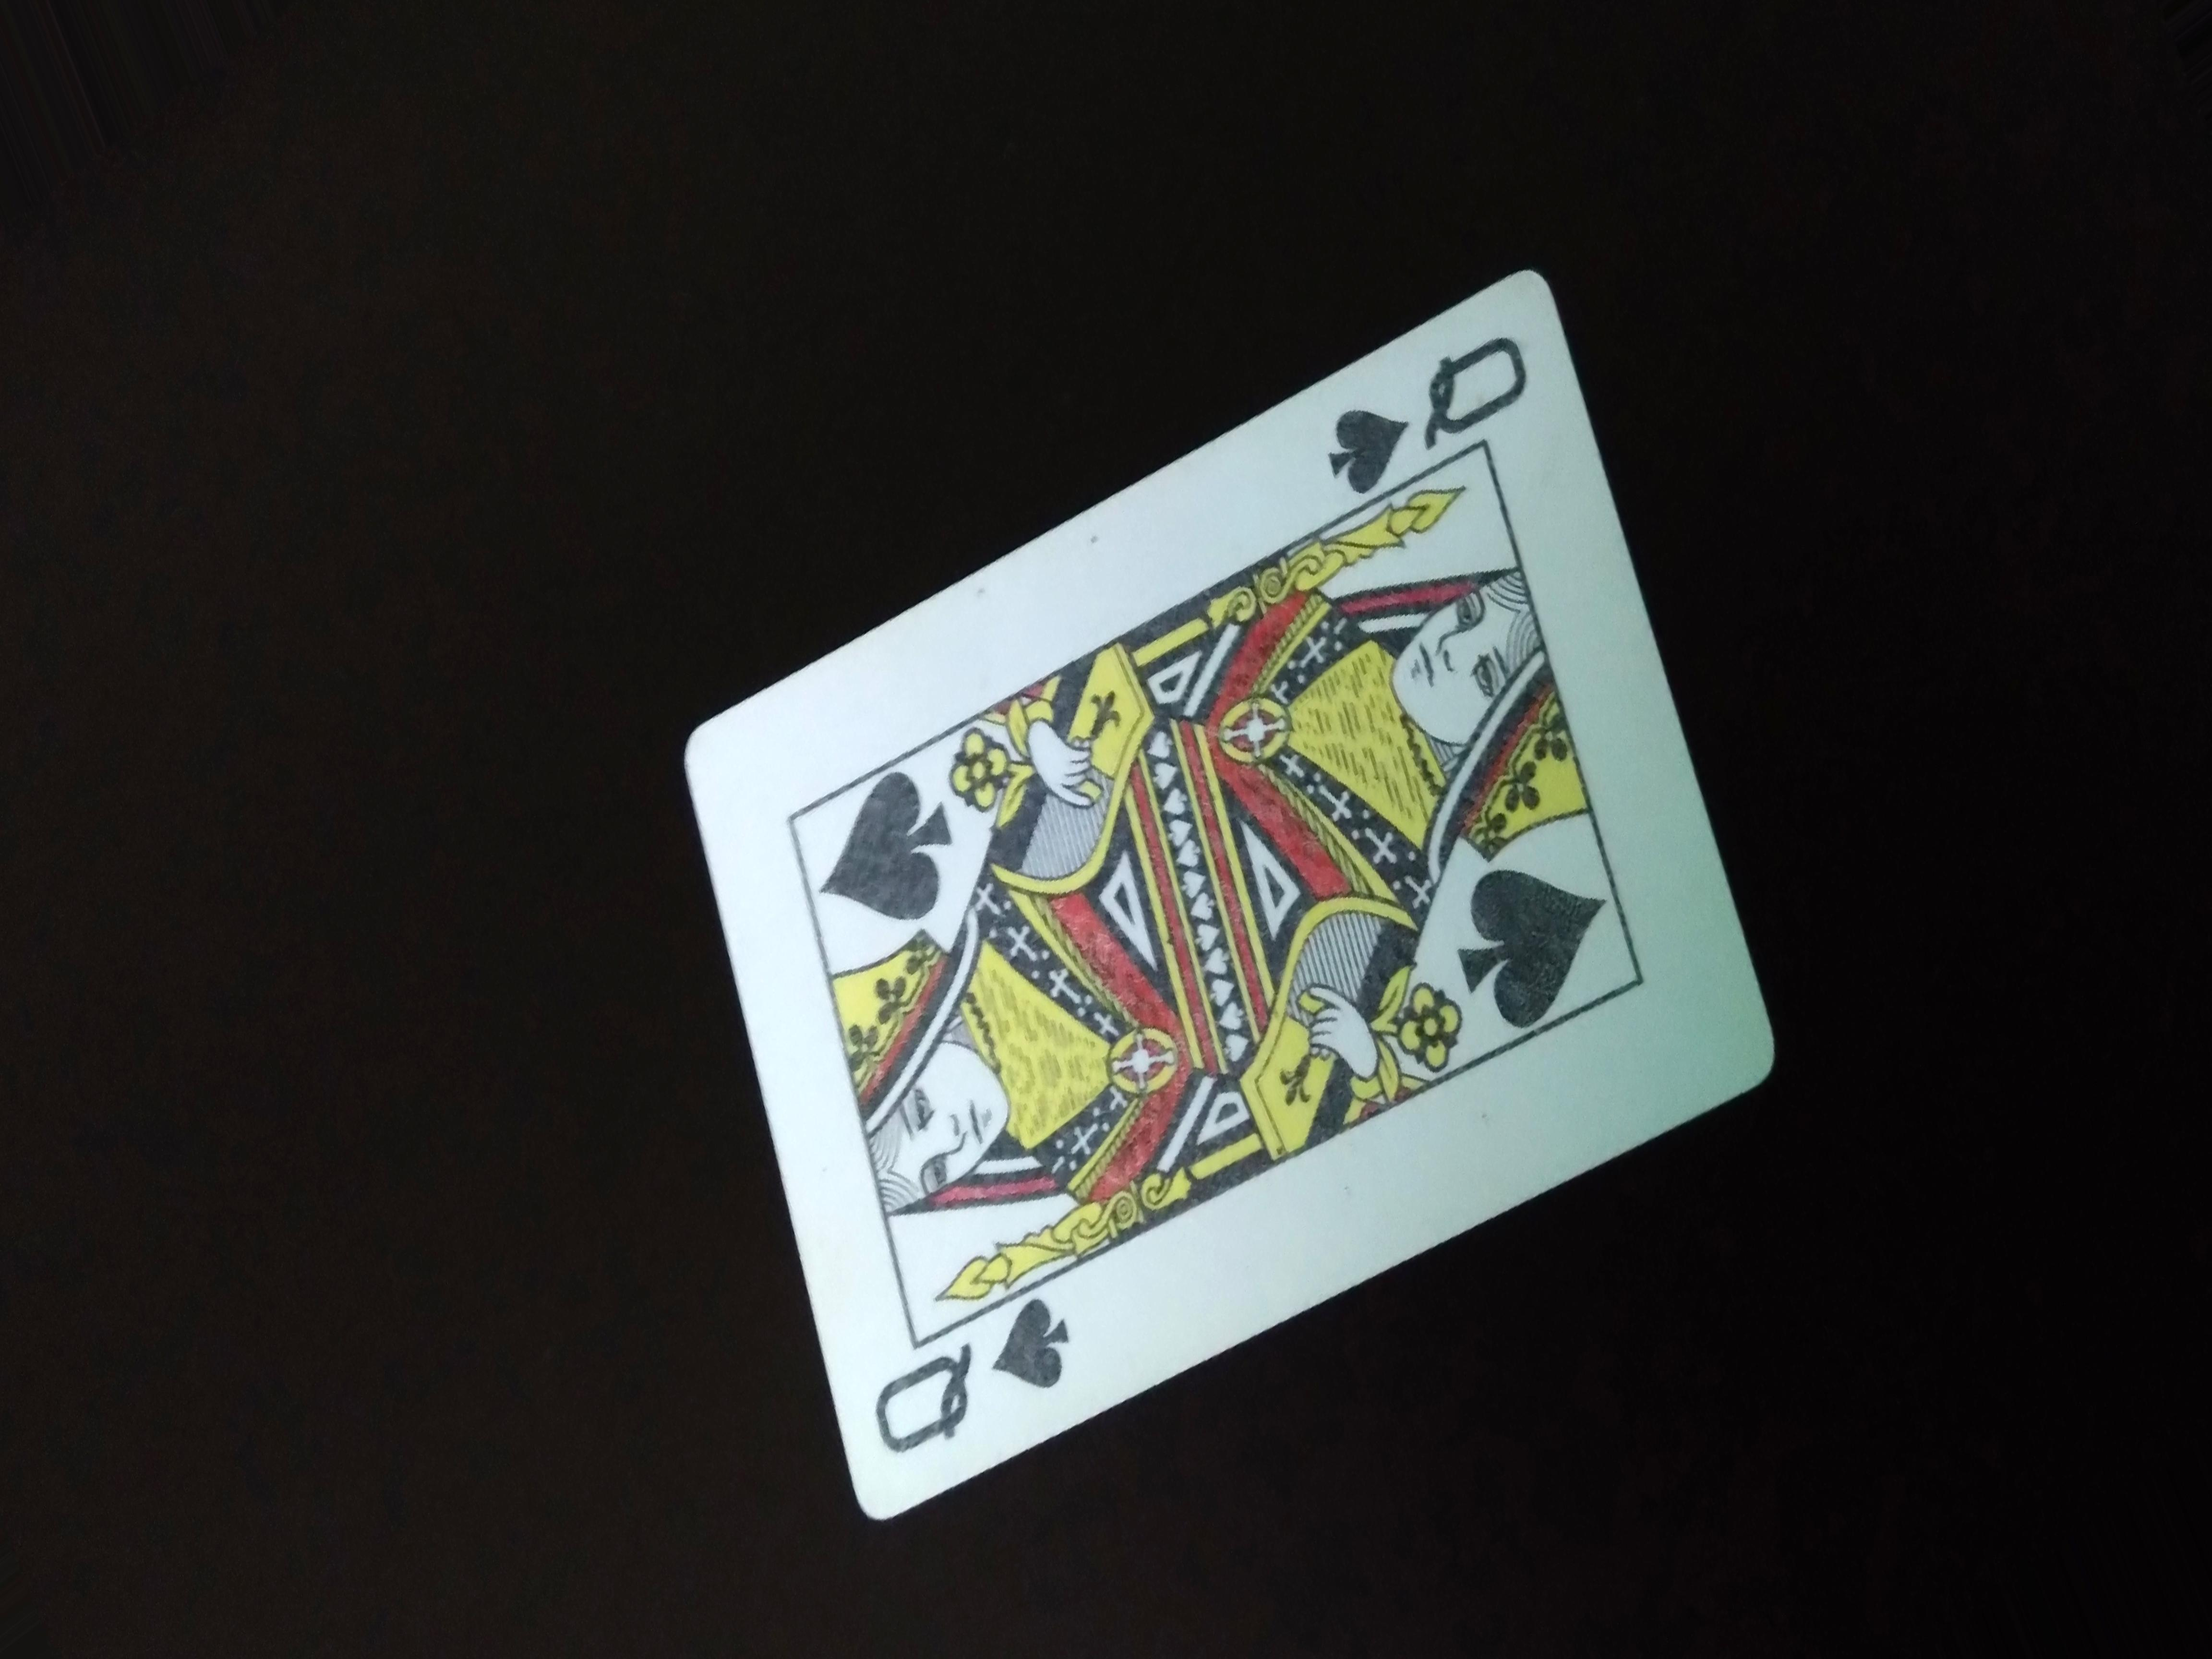QS: (1313, 305, 1540, 525)
